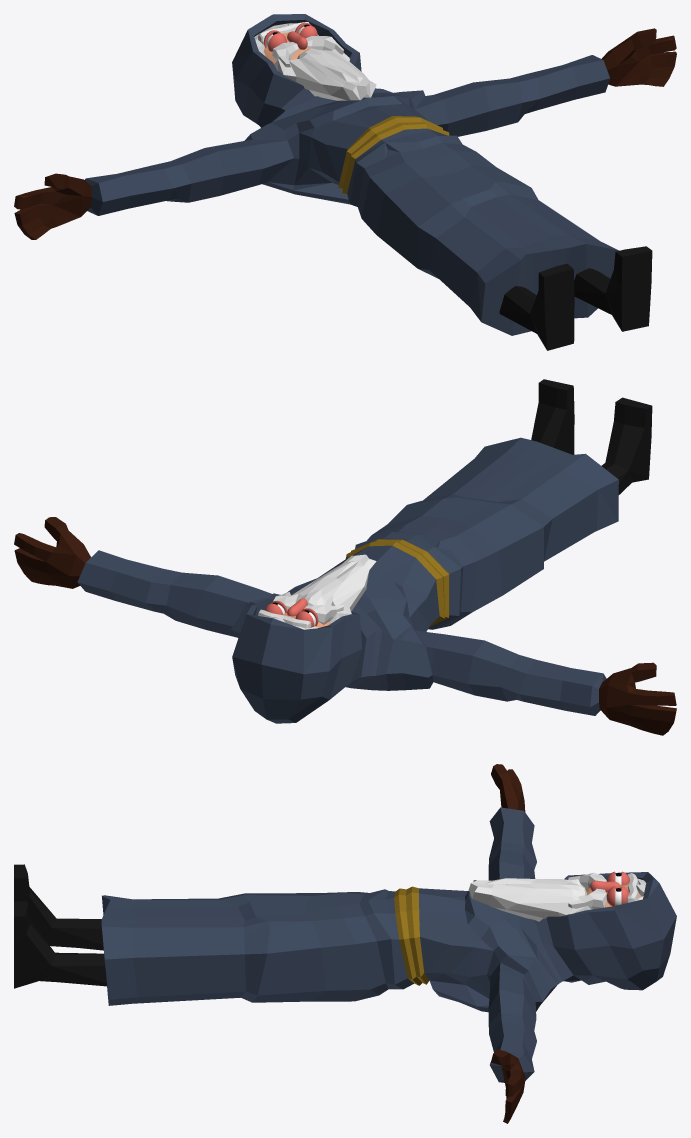
File: MAGO.fbx
3 views of the same model, one above another, from view 1: azimuth 30°, elevation 25°; view 2: azimuth 150°, elevation 25°; view 3: azimuth 270°, elevation 25° (orthographic).
Parts seen in each view (by area): view 1: SM_Chr_Hermit_01; view 2: SM_Chr_Hermit_01; view 3: SM_Chr_Hermit_01.
Boxes of the visible parts, x1=… form: SM_Chr_Hermit_01: x1=14, y1=14, x2=676, y2=350; SM_Chr_Hermit_01: x1=14, y1=379, x2=676, y2=735; SM_Chr_Hermit_01: x1=14, y1=764, x2=676, y2=1123.
Size of the model in its own units: 2982 by 502 by 2628.
